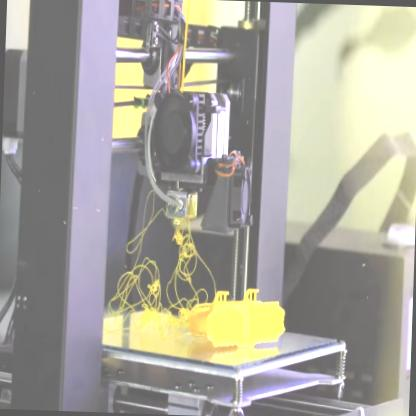fail: (111, 215, 213, 337)
